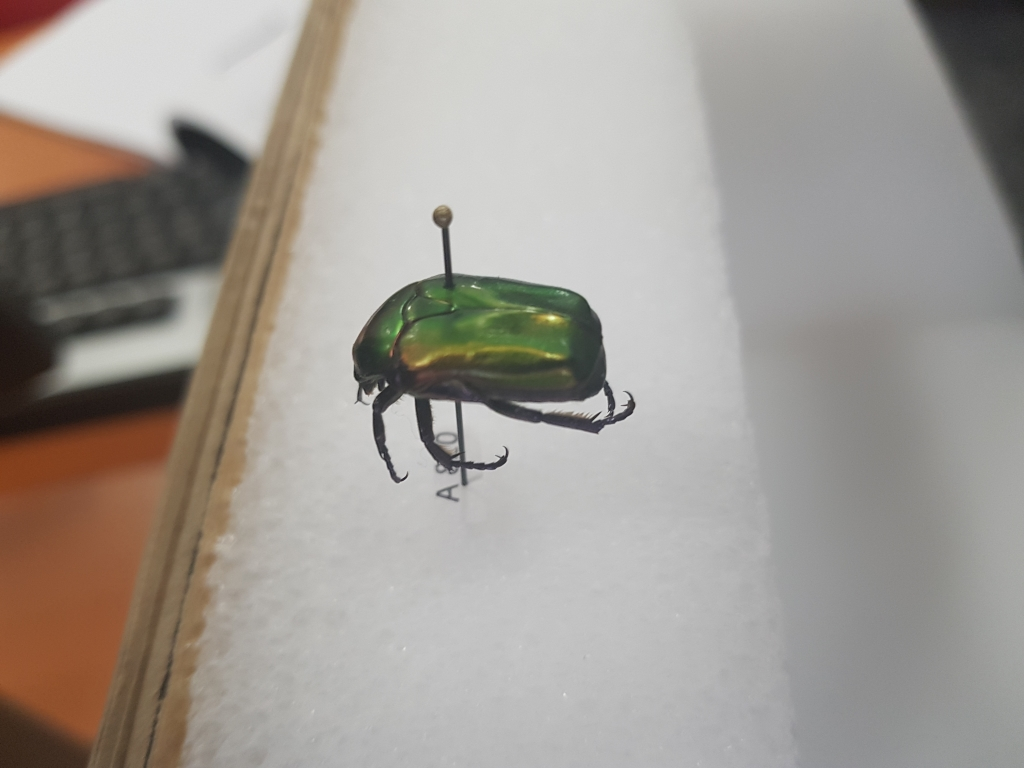Protaetia_cuprea_ignicollis: (340, 265, 653, 490)
